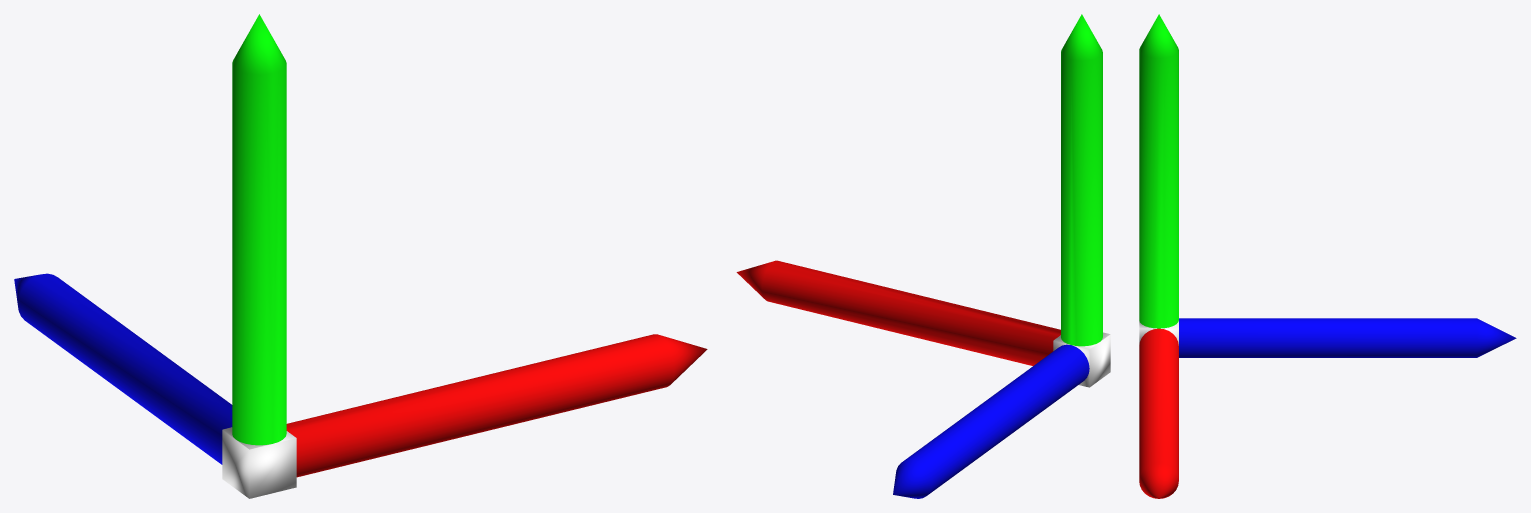
The model's file is frame.obj.
The picture shows the model from 3 angles, left to right: view 1: azimuth 30°, elevation 25°; view 2: azimuth 150°, elevation 25°; view 3: azimuth 270°, elevation 25°; orthographic projection. The views are drawn at different scales.
Parts seen in each view (by area): view 1: frame.obj; view 2: frame.obj; view 3: frame.obj.
Part boxes in pixels (box(x1,y1,x2,y2)): frame.obj: box(14, 14, 707, 498); frame.obj: box(736, 14, 1110, 498); frame.obj: box(1139, 14, 1516, 498).
Bounding box in the file's own units: 2.5 × 2.38 × 2.38.
